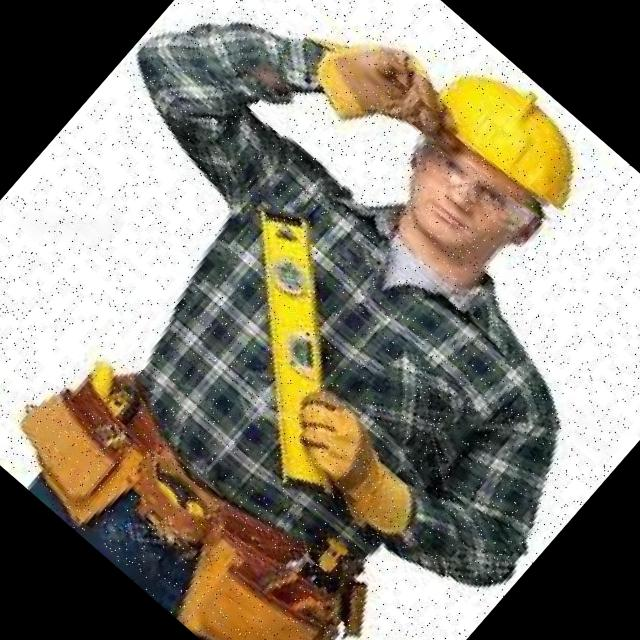hard_hat: (424, 44, 608, 218)
vehicle: (0, 0, 640, 640)
